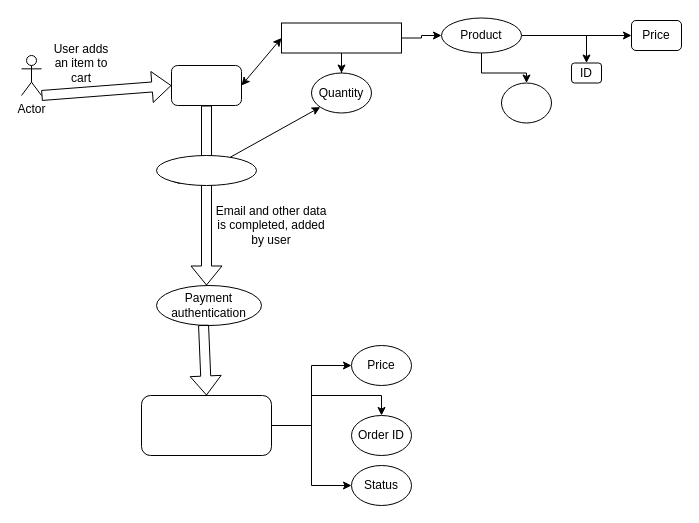
Some shapes in this 699 by 523 pixel diagram are drawn without their labels. Each missing label, with the centre of its shape:
"Add/Remove item" belongs at (x=206, y=170).
"Cart" belongs at (x=206, y=85).
"Cart_Item_X" belongs at (x=341, y=37).
"Name" belongs at (x=526, y=102).
"Order" belongs at (x=206, y=425).
